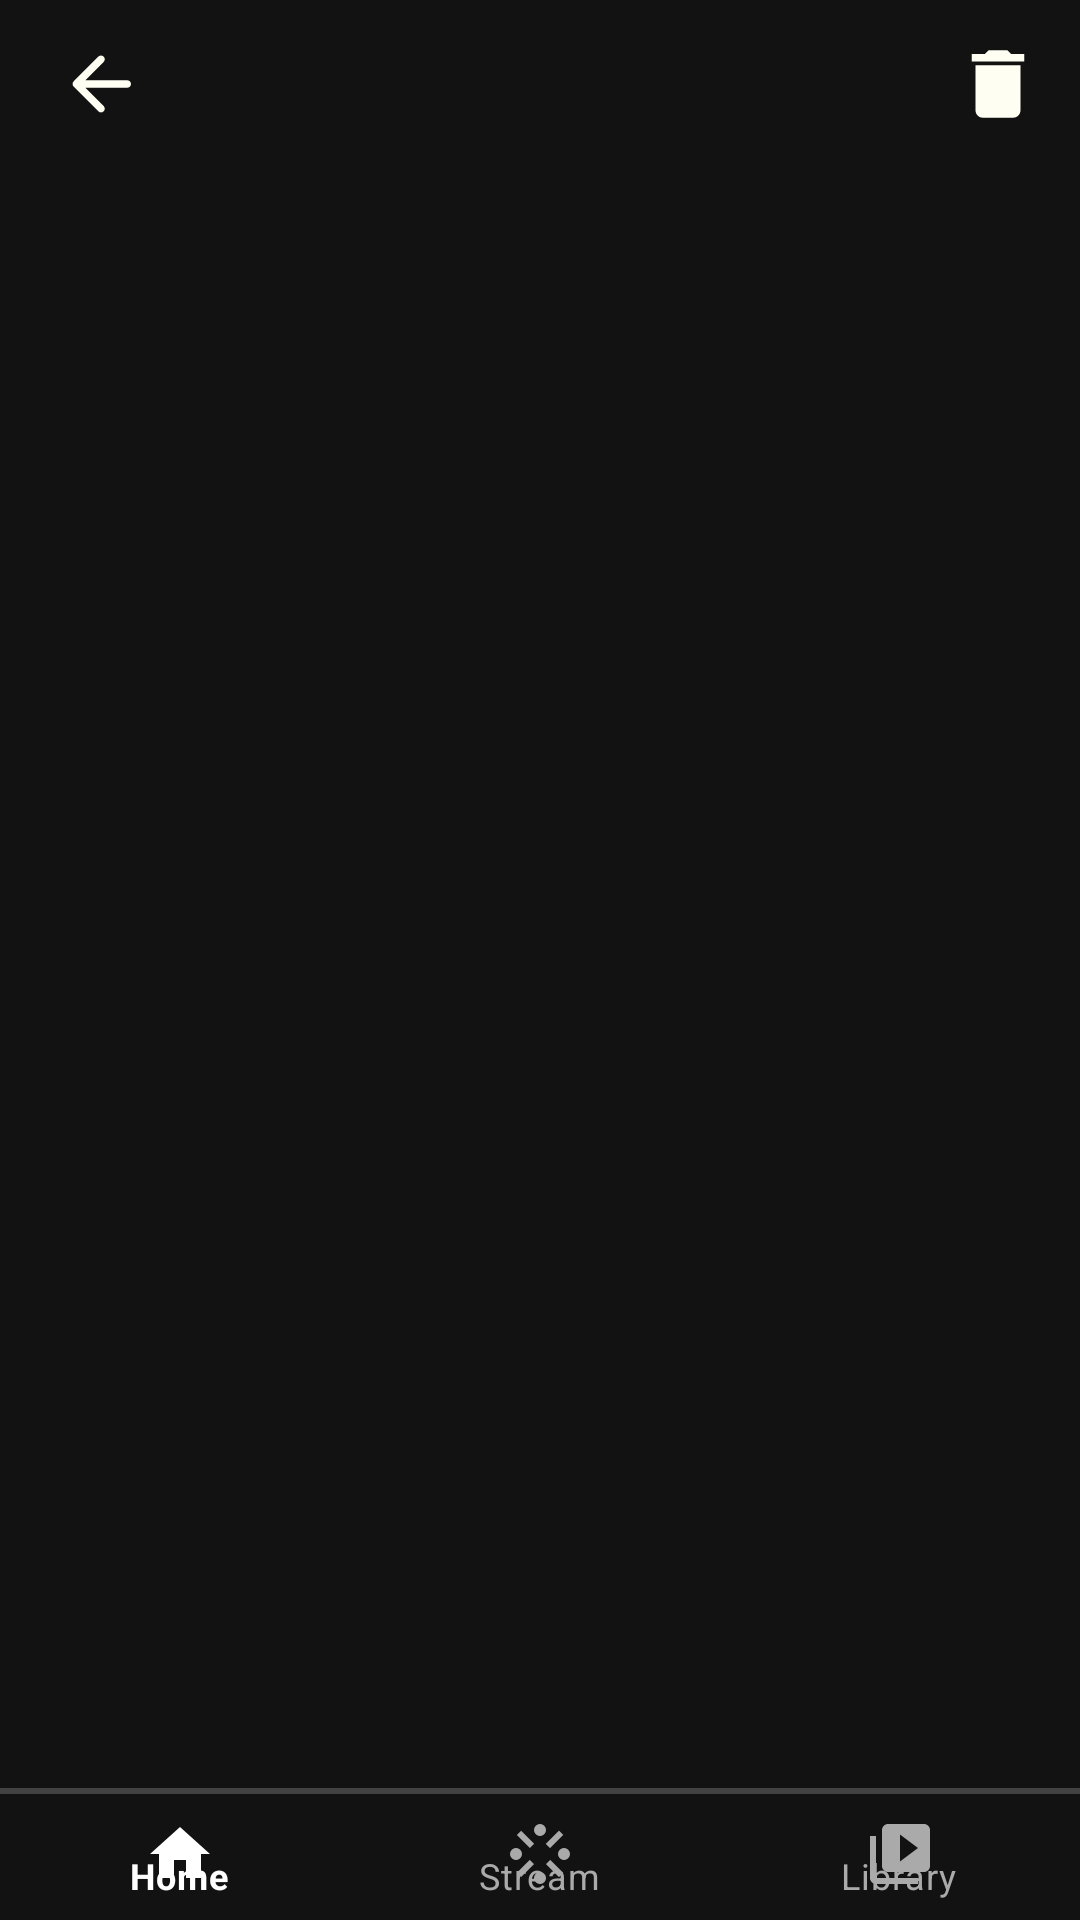

Icon click points for this 1080 × 1920 phone screenshot, format (x,y):
delete video: (998,84)
exo back: (101,84)
